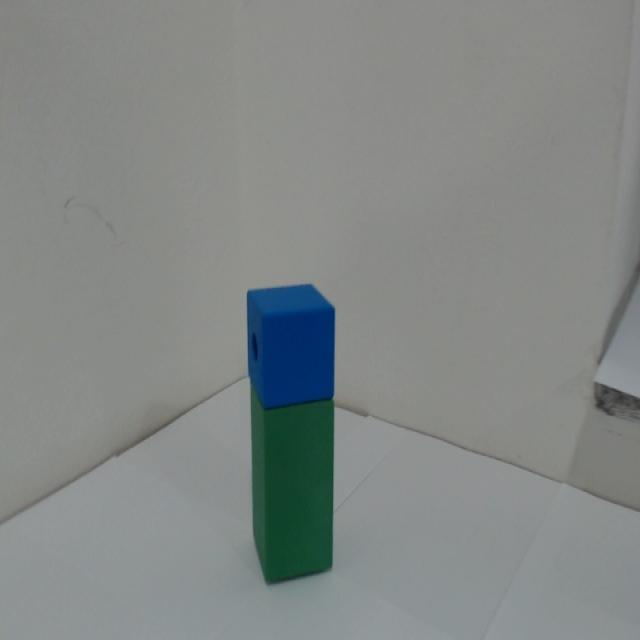cube: (234, 269, 375, 408)
